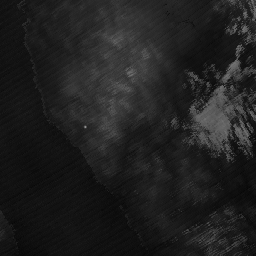Target: (82, 123, 88, 129)
